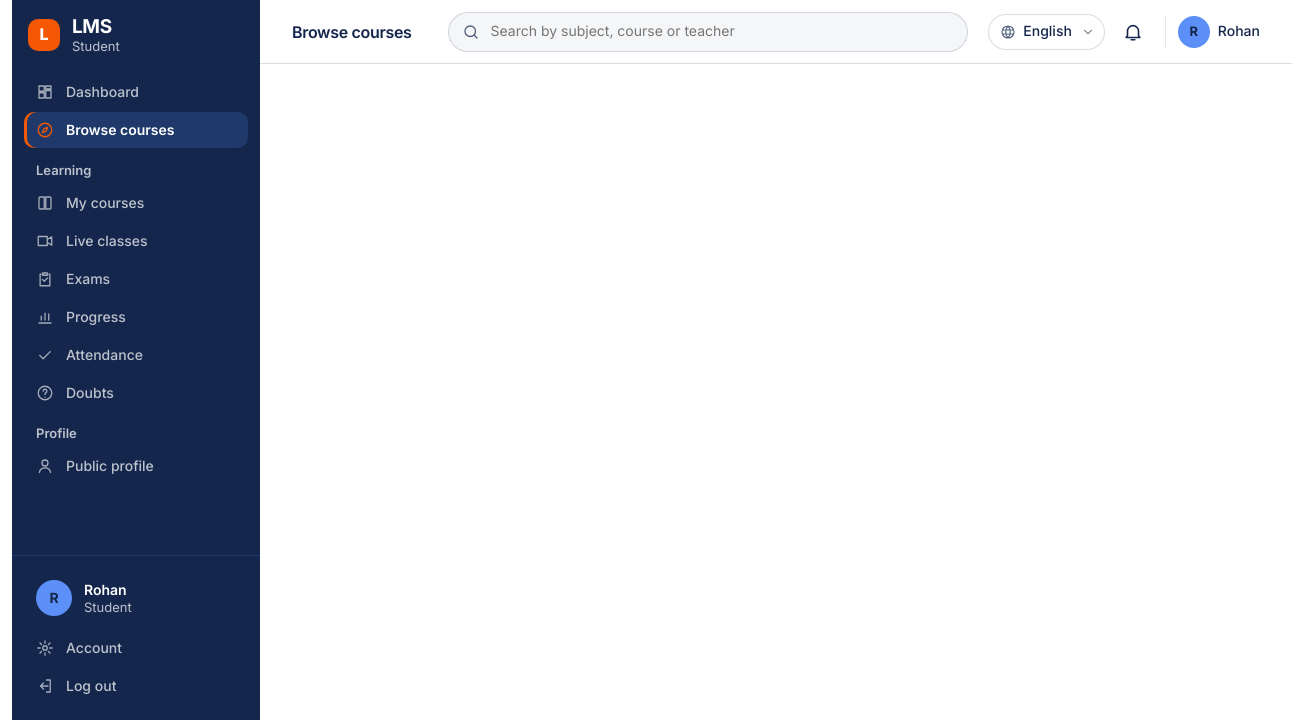
student top bar search updates the URL as you type, without pressing Enter
Type "algebra" into the search field labelled "Search". click: (708, 32)
box: [448,12,968,52]
(page scrolled)
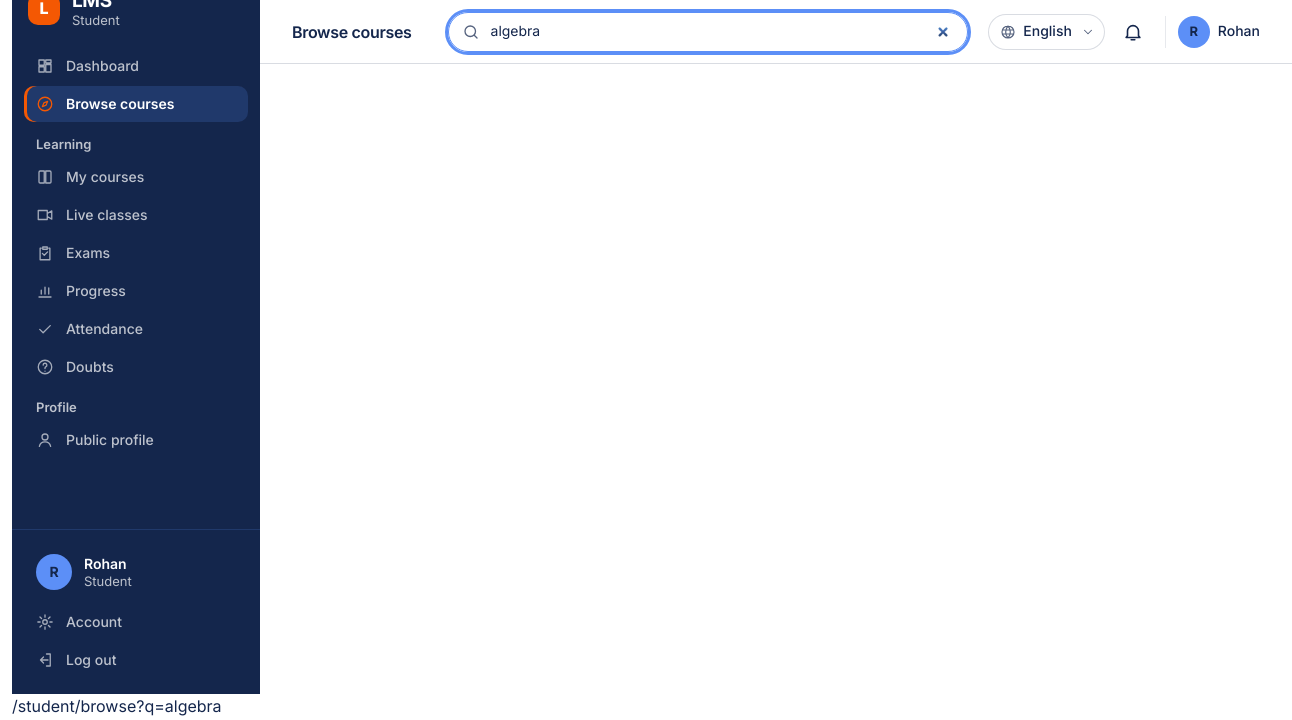
Expected: the text with test id "loc" reads "/student/browse?q=algebra", [12,696,222,716]
